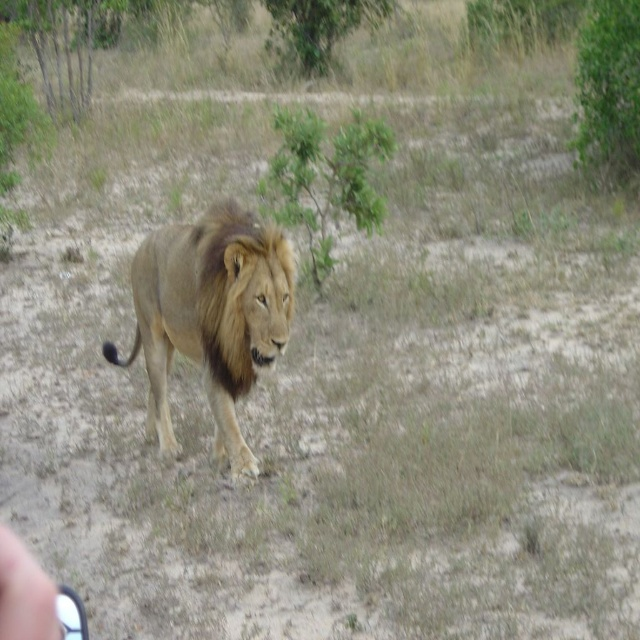Lion: (101, 193, 300, 484)
